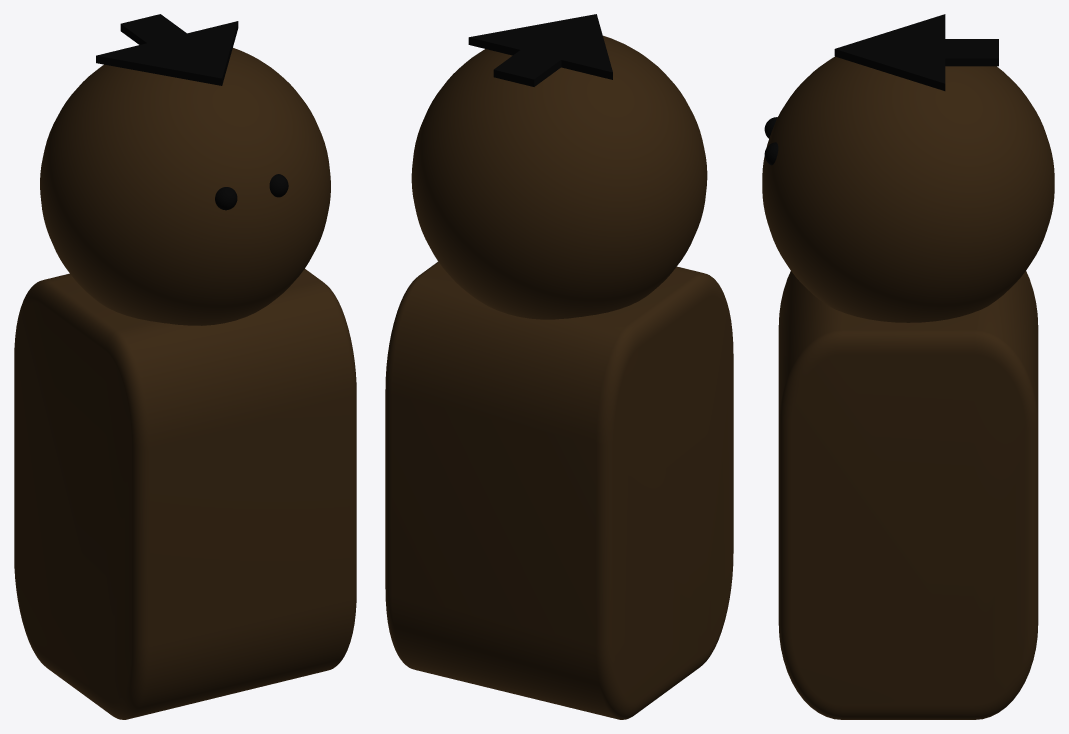
Rendered from 2brown.obj.
The picture shows the model from 3 angles, left to right: view 1: azimuth 30°, elevation 25°; view 2: azimuth 150°, elevation 25°; view 3: azimuth 270°, elevation 25°; orthographic projection.
Parts seen in each view (by area): view 1: Curve.002_Curve.013, Curve.002_Curve.014; view 2: Curve.002_Curve.013, Curve.002_Curve.014; view 3: Curve.002_Curve.013, Curve.002_Curve.014.
Boxes of the visible parts, box(x1,y1,x2,y2) form: Curve.002_Curve.013: box(14, 48, 356, 719); Curve.002_Curve.014: box(96, 14, 288, 210); Curve.002_Curve.013: box(385, 35, 733, 719); Curve.002_Curve.014: box(468, 14, 612, 86); Curve.002_Curve.013: box(762, 56, 1054, 719); Curve.002_Curve.014: box(764, 14, 998, 165).
Bounding box in the file's own units: 0.2062 × 0.4819 × 0.2057.
